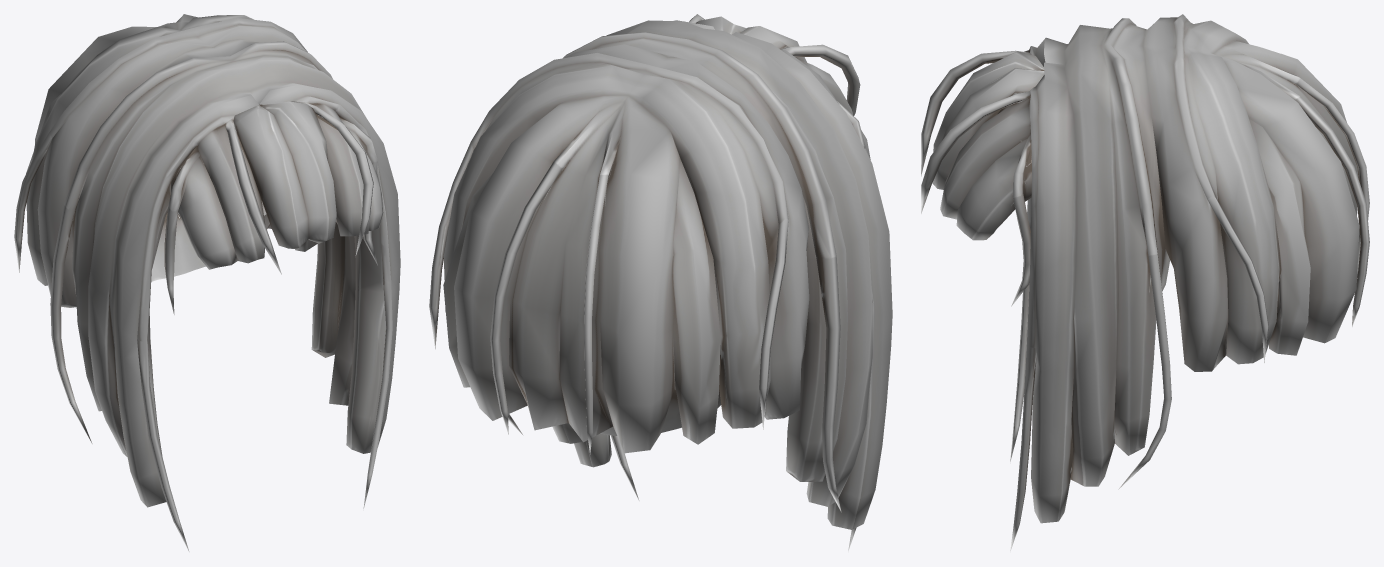
Rendered from hair4.fbx.
The picture shows the model from 3 angles, left to right: view 1: azimuth 30°, elevation 25°; view 2: azimuth 150°, elevation 25°; view 3: azimuth 270°, elevation 25°; orthographic projection. The views are drawn at different scales.
Parts seen in each view (by area): view 1: hair4; view 2: hair4; view 3: hair4.
Boxes of the visible parts, left/top/right/bottom form: hair4: left=14, top=14, right=400, bottom=551; hair4: left=429, top=14, right=892, bottom=551; hair4: left=921, top=14, right=1369, bottom=551.
Size of the model in its own units: 19.18 by 27.2 by 23.5.
Materials: 1 (1 with a texture image).
